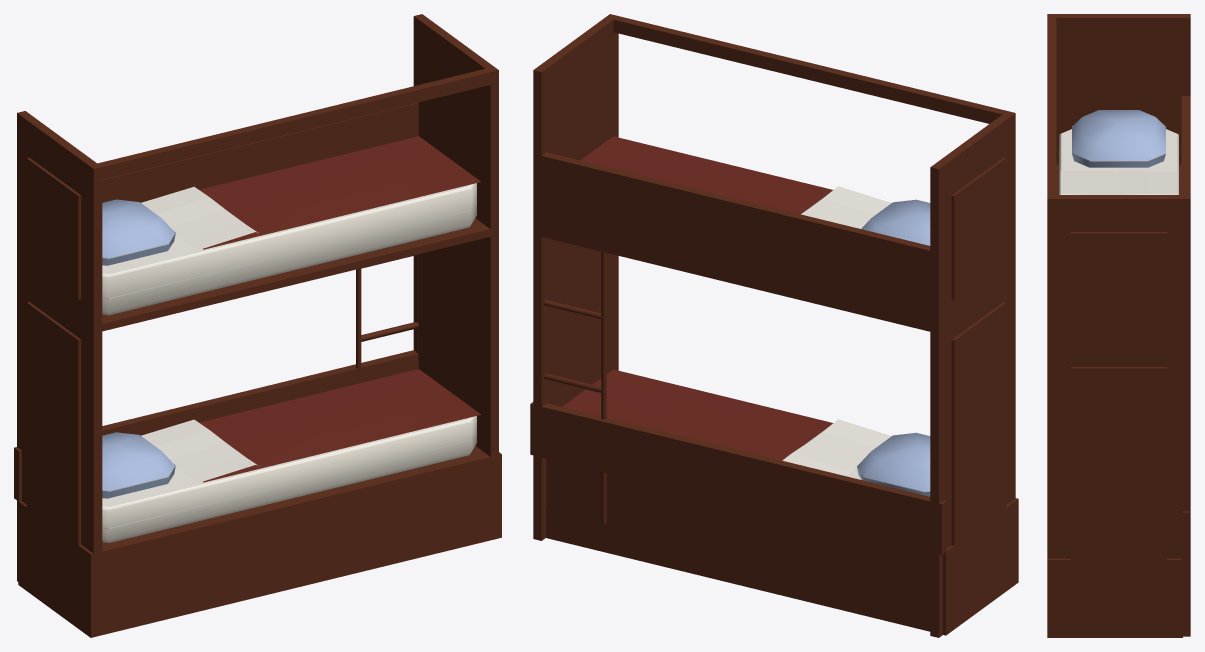
File: parametric-sized-berth-double-l170w55-3rd.glb
The picture shows the model from 3 angles, left to right: view 1: azimuth 30°, elevation 25°; view 2: azimuth 150°, elevation 25°; view 3: azimuth 270°, elevation 25°; orthographic projection. The views are drawn at different scales.
Parts seen in each view (by area): view 1: parametric-sized-berth-double-l170w55-3rd; view 2: parametric-sized-berth-double-l170w55-3rd; view 3: parametric-sized-berth-double-l170w55-3rd.
Boxes of the visible parts, box(x1,y1,x2,y2) form: parametric-sized-berth-double-l170w55-3rd: box(14, 14, 501, 637); parametric-sized-berth-double-l170w55-3rd: box(530, 14, 1018, 637); parametric-sized-berth-double-l170w55-3rd: box(1047, 14, 1190, 637).
Bounding box in the file's own units: 1.7 × 1.85 × 0.55.
